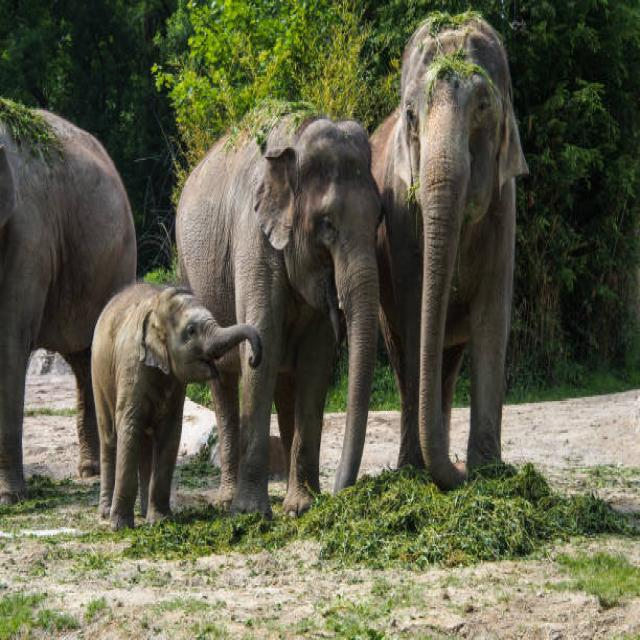Elephant: (175, 70, 389, 531), (369, 6, 530, 508), (3, 82, 145, 514), (88, 271, 255, 530)
